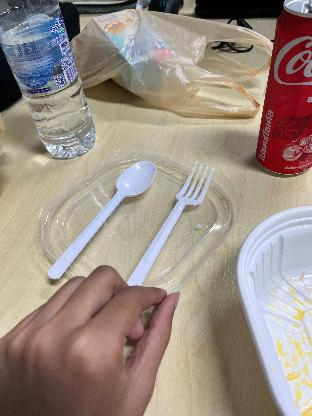Others: (42, 151, 160, 287), (123, 158, 221, 290)
Plastic Bottle: (1, 0, 100, 156)
